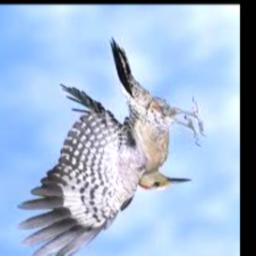Woodpecker: (17, 38, 206, 256)
